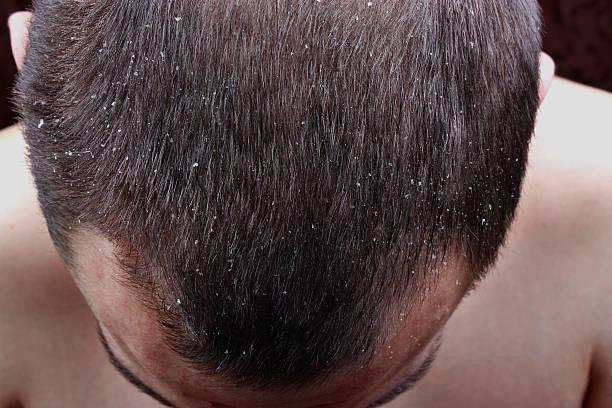dandruff: (91, 36, 145, 157), (26, 85, 83, 165), (165, 196, 232, 232), (468, 164, 502, 233), (285, 108, 320, 159), (254, 220, 316, 246), (400, 170, 424, 191), (357, 42, 382, 61), (159, 11, 188, 24), (185, 152, 201, 175), (185, 234, 202, 249), (354, 176, 362, 192), (362, 0, 375, 9)
